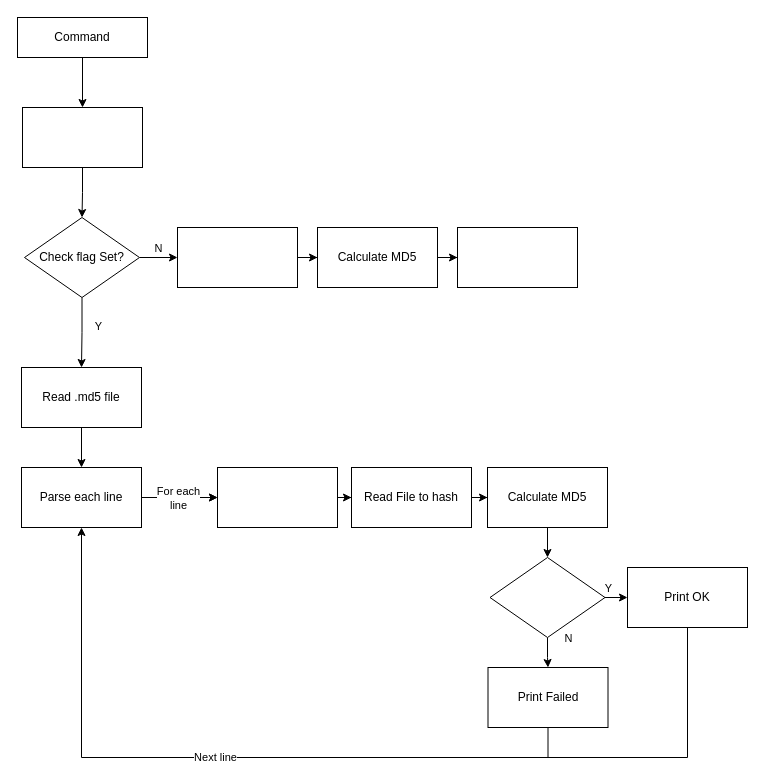
Image size: 765x783. Some labels were removed from this diagram. Here are the shapes that lost their labels. From the top down, the centre of each, then its label:
the point at 82,137: Flag Parsing
the point at 237,257: Read file
the point at 517,257: Print Hash
the point at 277,497: Parse each word
the point at 547,597: Check if hash Matches
